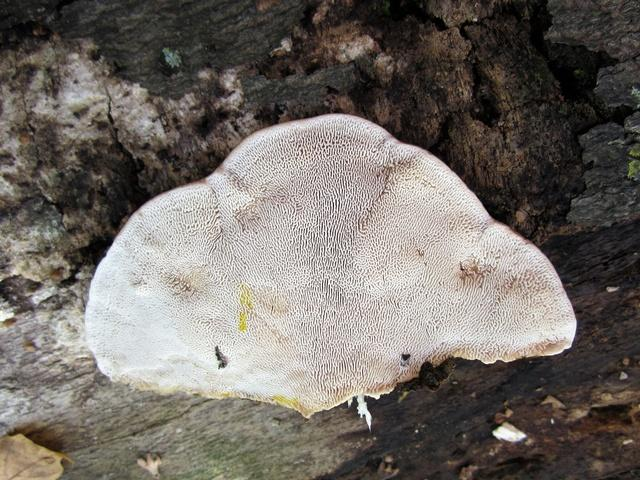Non-edible Mushroom: (82, 111, 578, 431)
